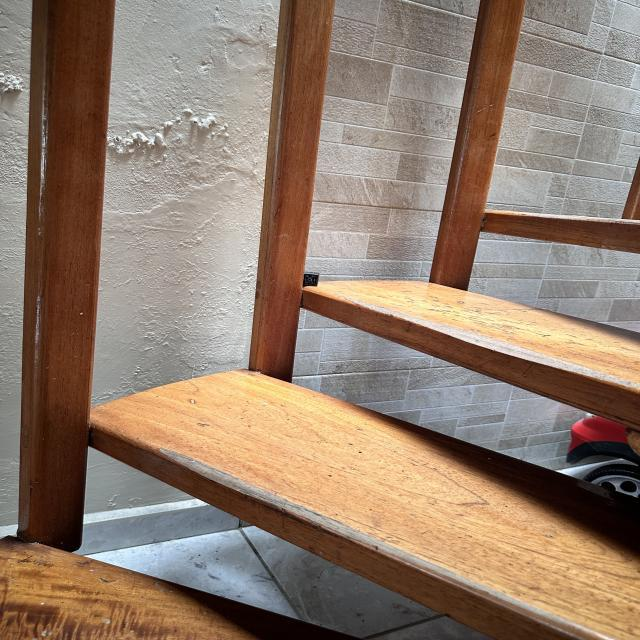hidden camera: (306, 277, 313, 283)
